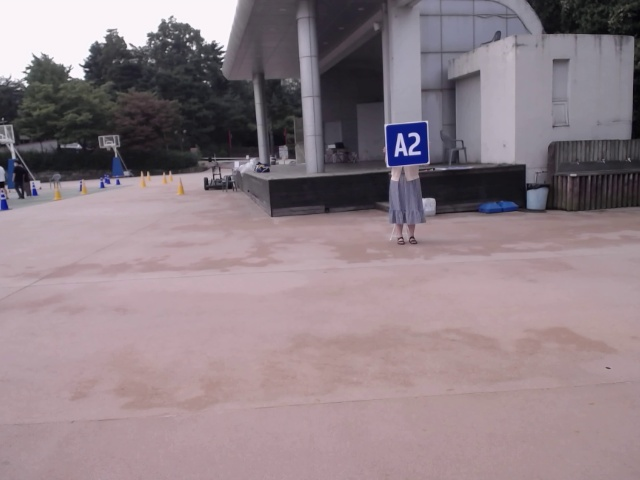delivery_a2: (386, 120, 430, 167)
